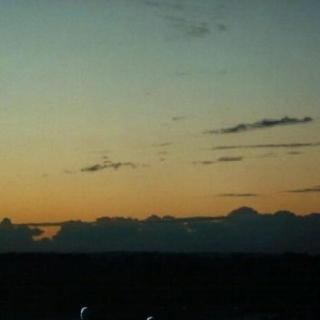Stratocumulus: (0, 0, 320, 272)
